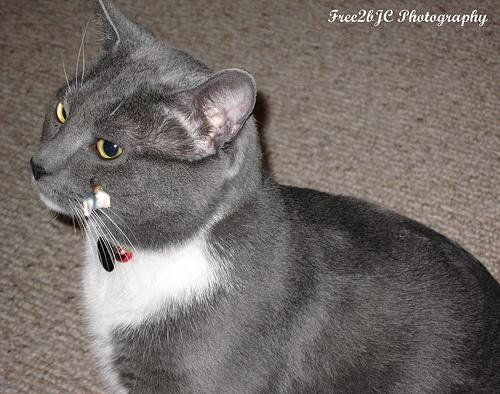tampered: (84, 177, 110, 216)
